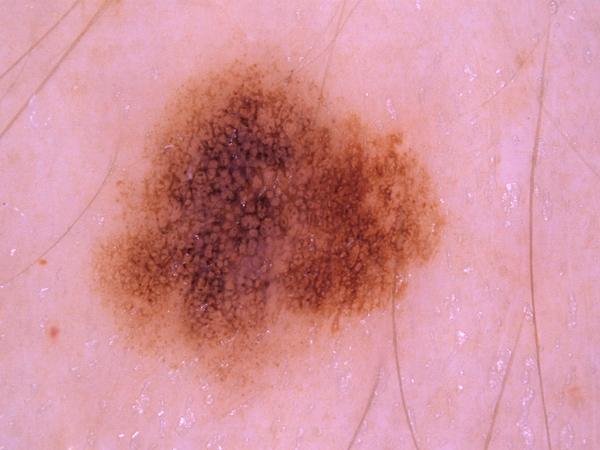Detected Lesion: (88, 48, 448, 392)
